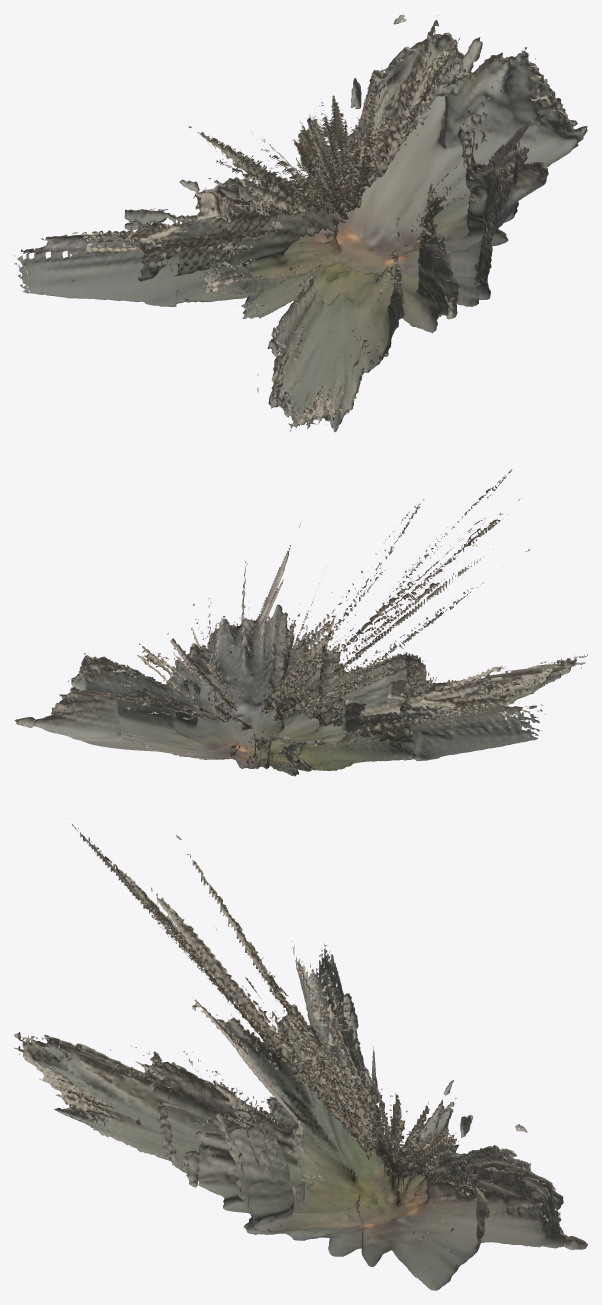
File: forest-wildfire-scenario-collider.glb
3 views of the same model, one above another, from view 1: azimuth 30°, elevation 25°; view 2: azimuth 150°, elevation 25°; view 3: azimuth 270°, elevation 25° (orthographic). The views are drawn at different scales.
Parts seen in each view (by area): view 1: world; view 2: world; view 3: world.
Boxes of the visible parts, box(x1,y1,x2,y2) form: world: box(14, 14, 587, 432); world: box(14, 469, 587, 776); world: box(14, 818, 587, 1290).
Bounding box in the file's own units: 97.1 × 52.13 × 85.8.
